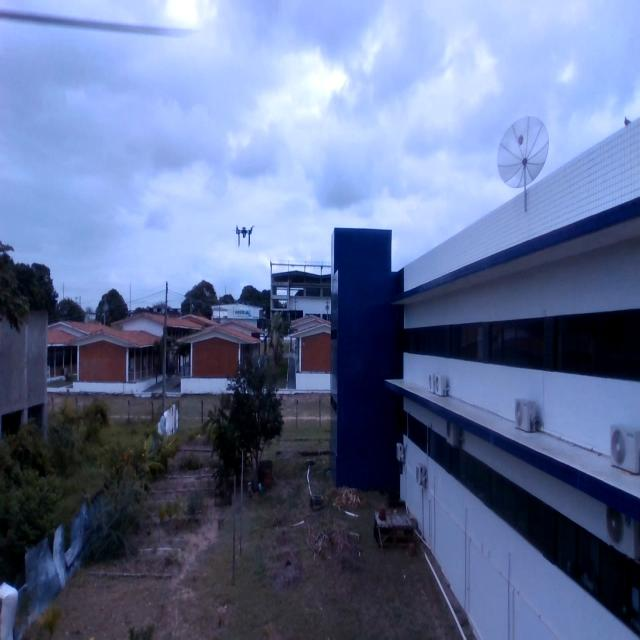-uav-: (229, 218, 255, 250)
